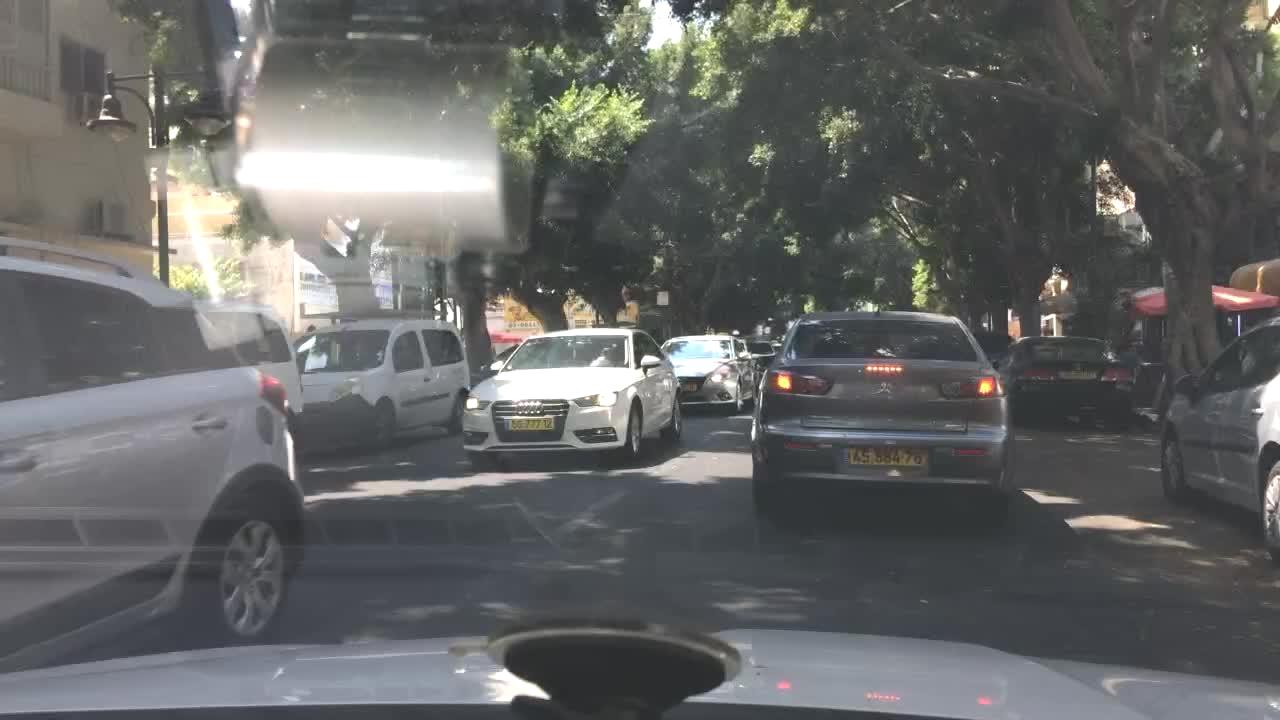Audi: (503, 396, 550, 420)
Mitsubishi: (874, 378, 903, 404)
